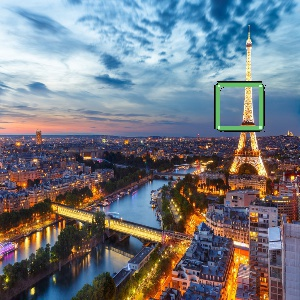square: (213, 80, 266, 133)
